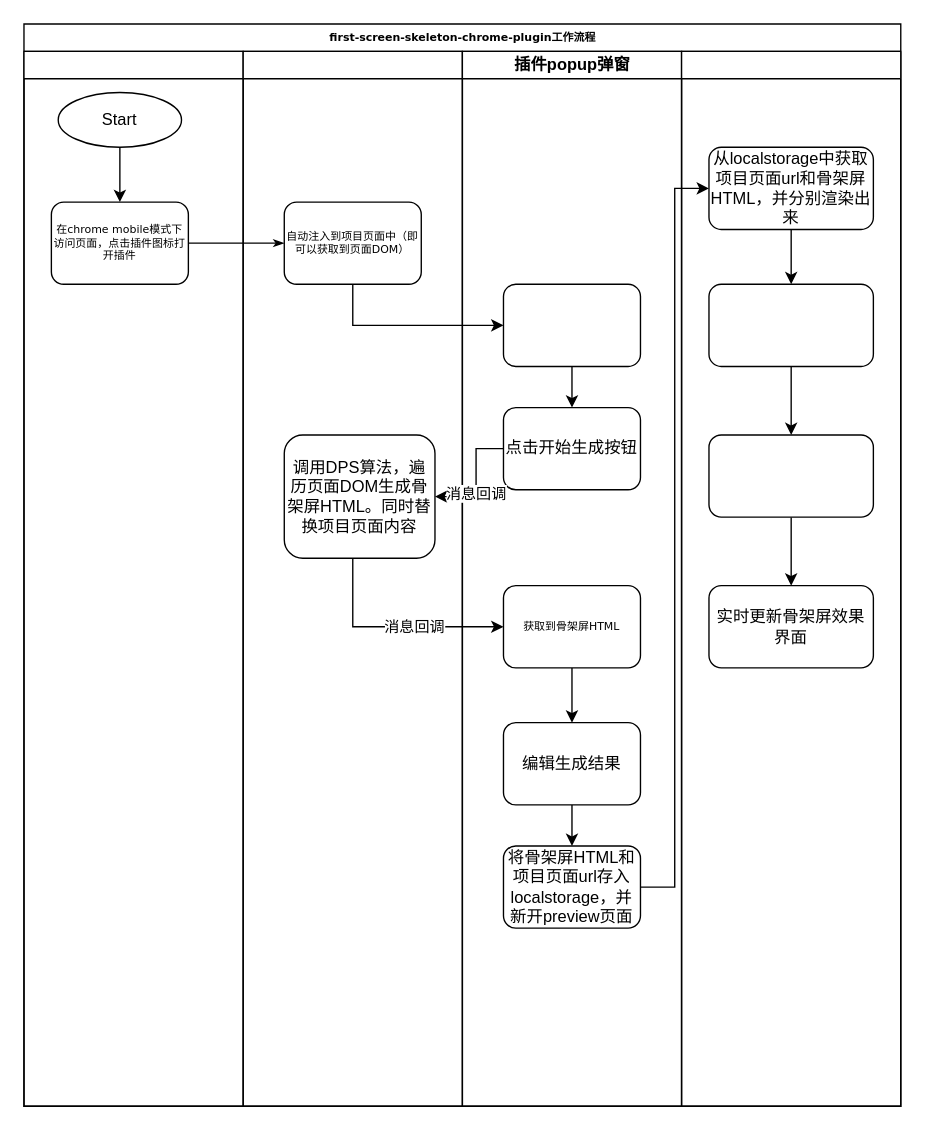
Some shapes in this 925 by 1130 pixel diagram are drawn without their labels. Each missing label, with the box of its shape:
使用codeMirror插件渲染出文本编辑区，呈现骨架屏HTML代码: (708, 283, 873, 366)
在文本编辑区中调试骨架屏HTML代码: (708, 434, 873, 517)
弹出插件popup窗口: (502, 283, 640, 366)
您的项目页面: (23, 50, 243, 1106)
插件content_scripts脚本: (242, 50, 462, 1106)
插件preview页面: (680, 50, 901, 1106)
